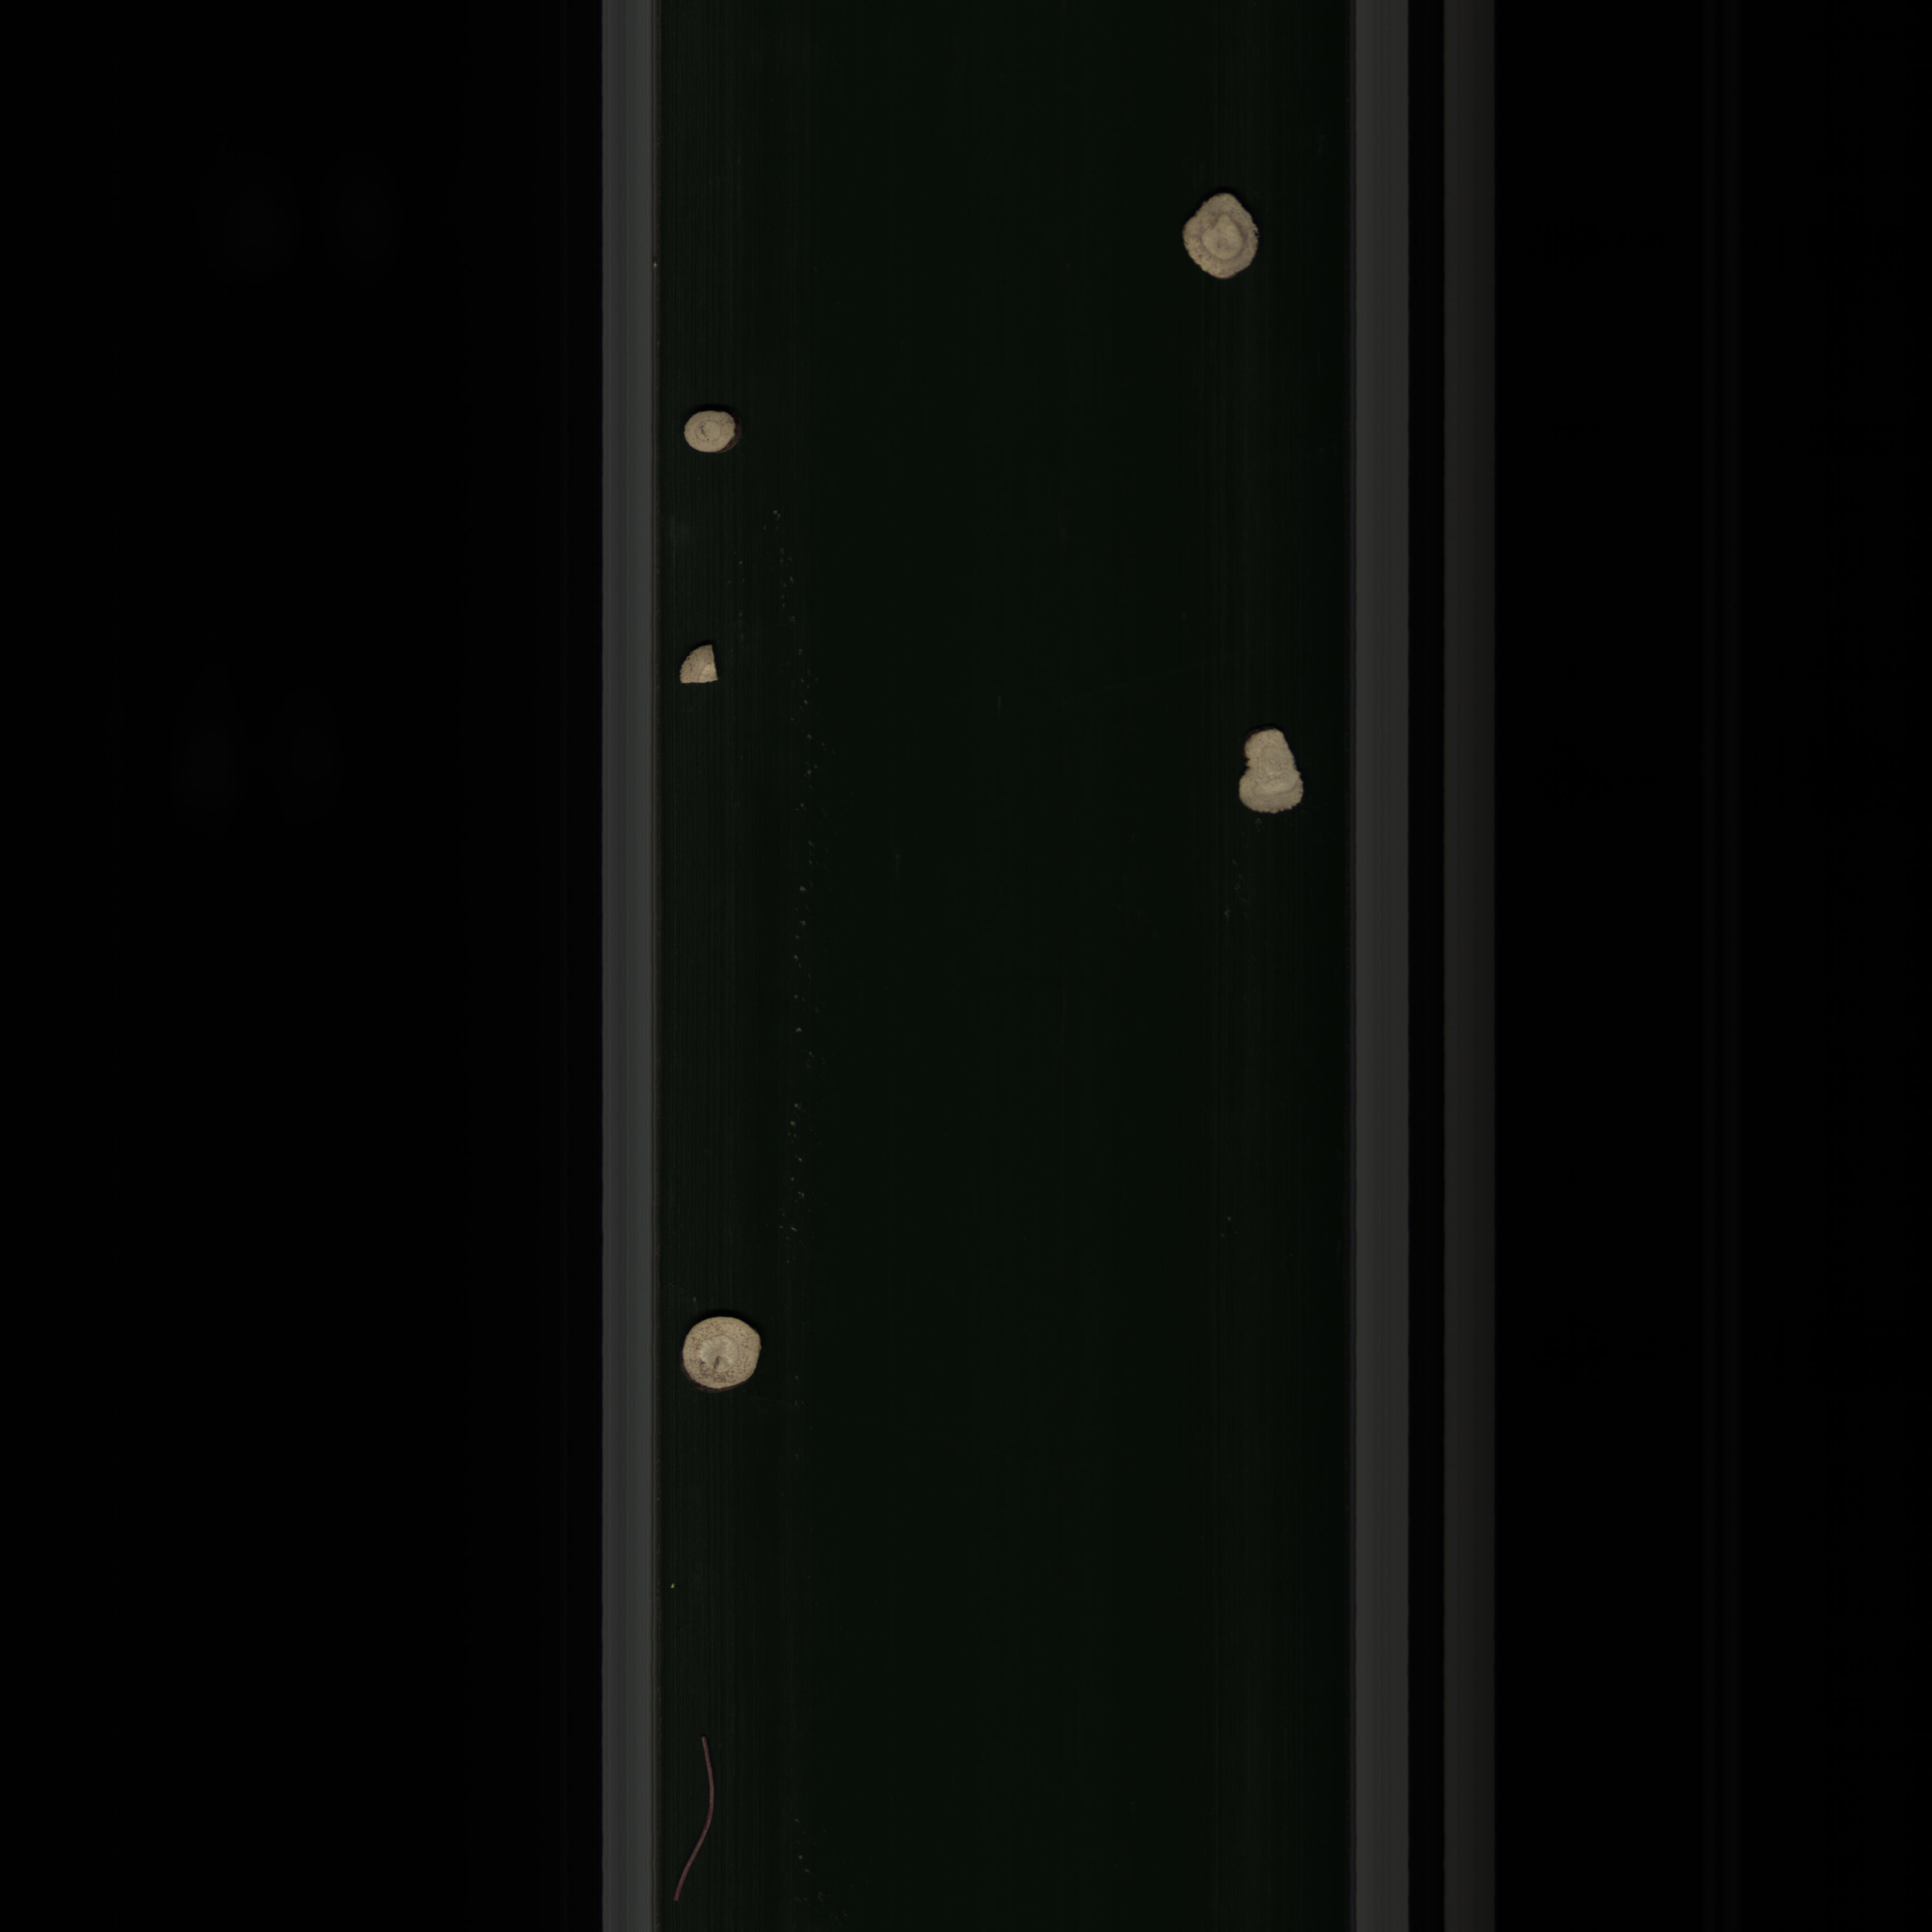debris: (1224, 718, 1322, 826), (674, 635, 727, 694)
